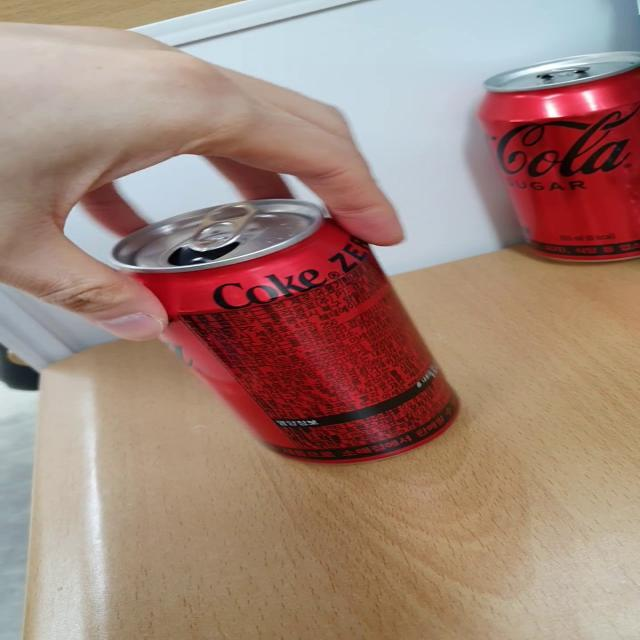coca-cola: (98, 193, 486, 472), (470, 40, 640, 268)
